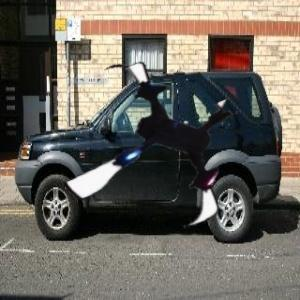drone: (58, 54, 250, 246)
